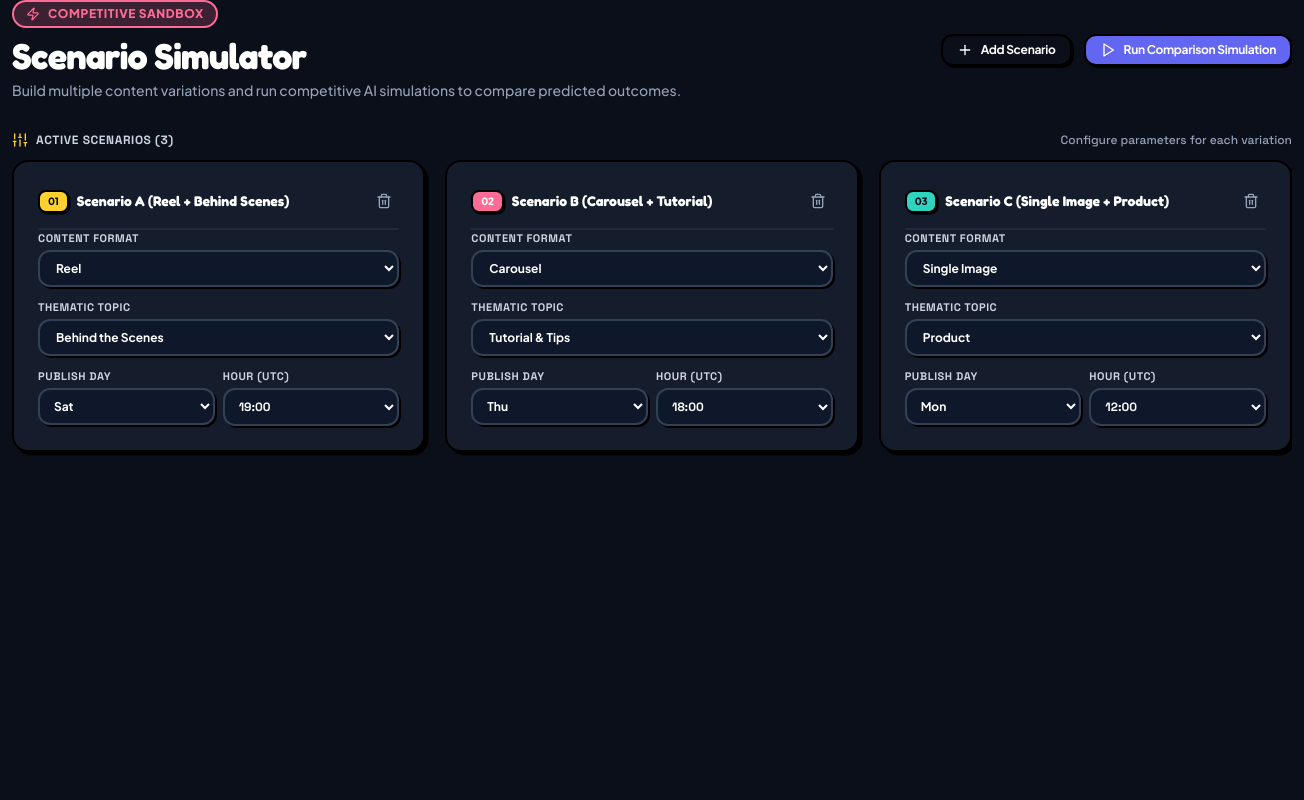
Test: Simulator Page Component › renders initial scenarios and allows adding new scenario
Expected: the heading "Scenario Simulator" is shown, [12,34,306,77]
Expected: the 1st field showing "Scenario A" is shown, [77,191,361,211]
Click the button "Add Scenario": {"x": 1006, "y": 50} [941,34,1072,66]
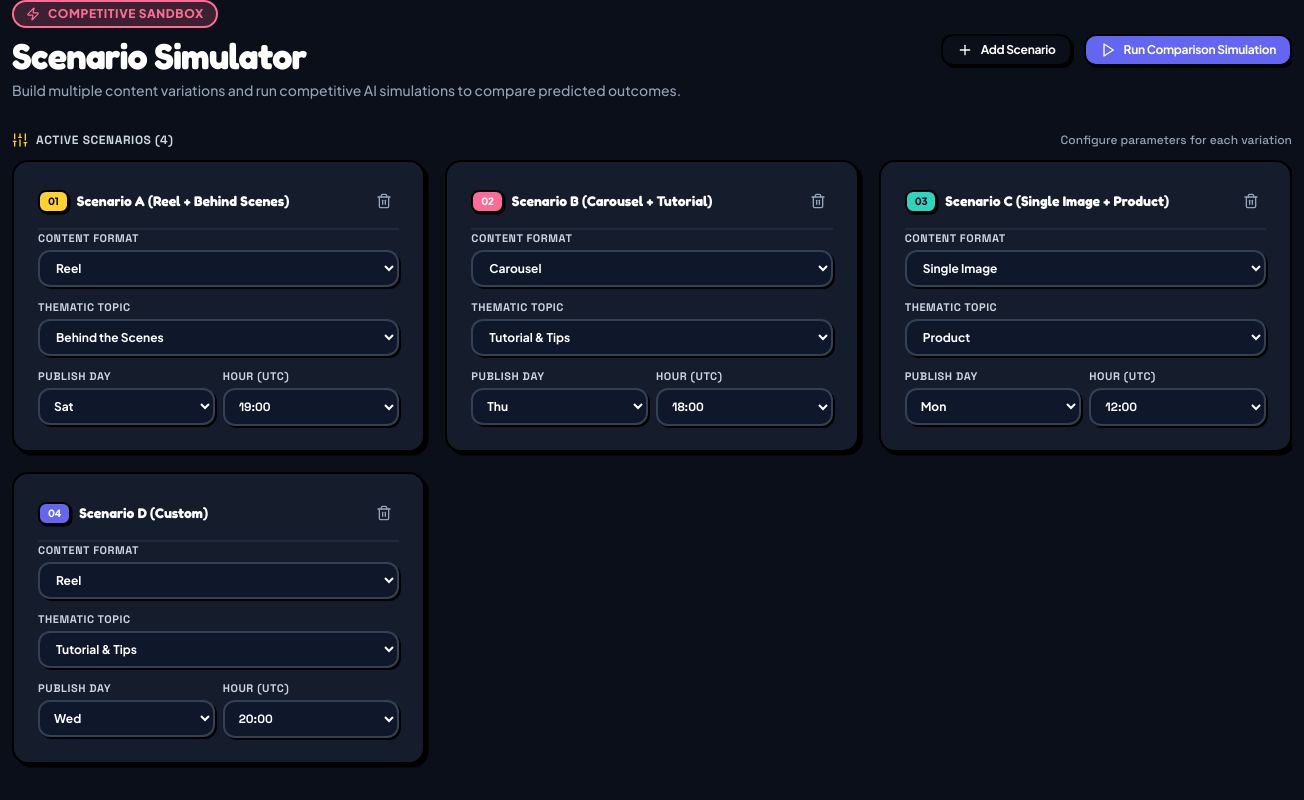
Expected: the 4th field showing "Scenario D (Custom)" is shown, [79,503,361,523]
